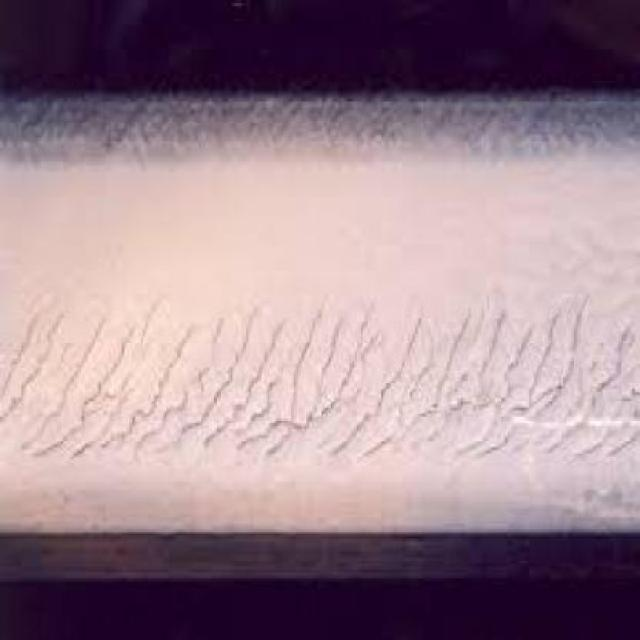defective: (4, 87, 640, 597)
